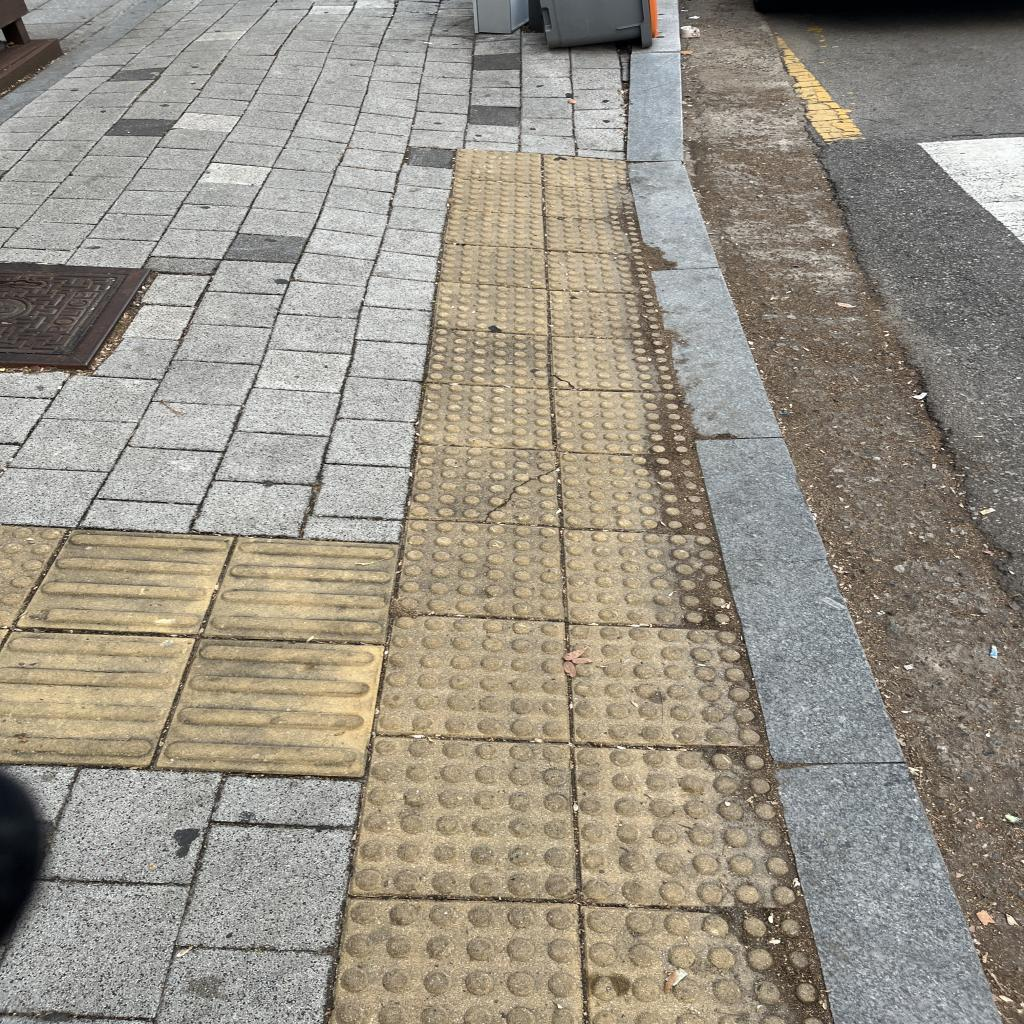Stop block broken: (409, 445, 563, 525)
Stop block normal: (376, 614, 575, 741), (419, 383, 558, 450)
